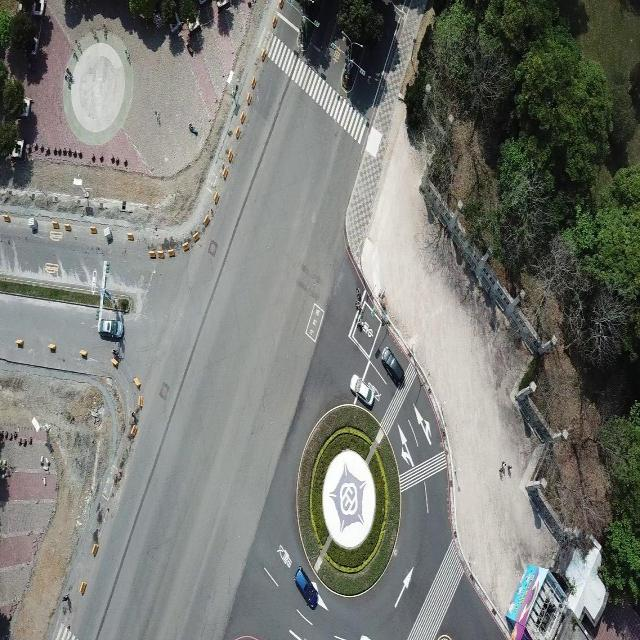car: (294, 565, 318, 610), (381, 346, 405, 388), (349, 373, 375, 409), (98, 307, 124, 340)
